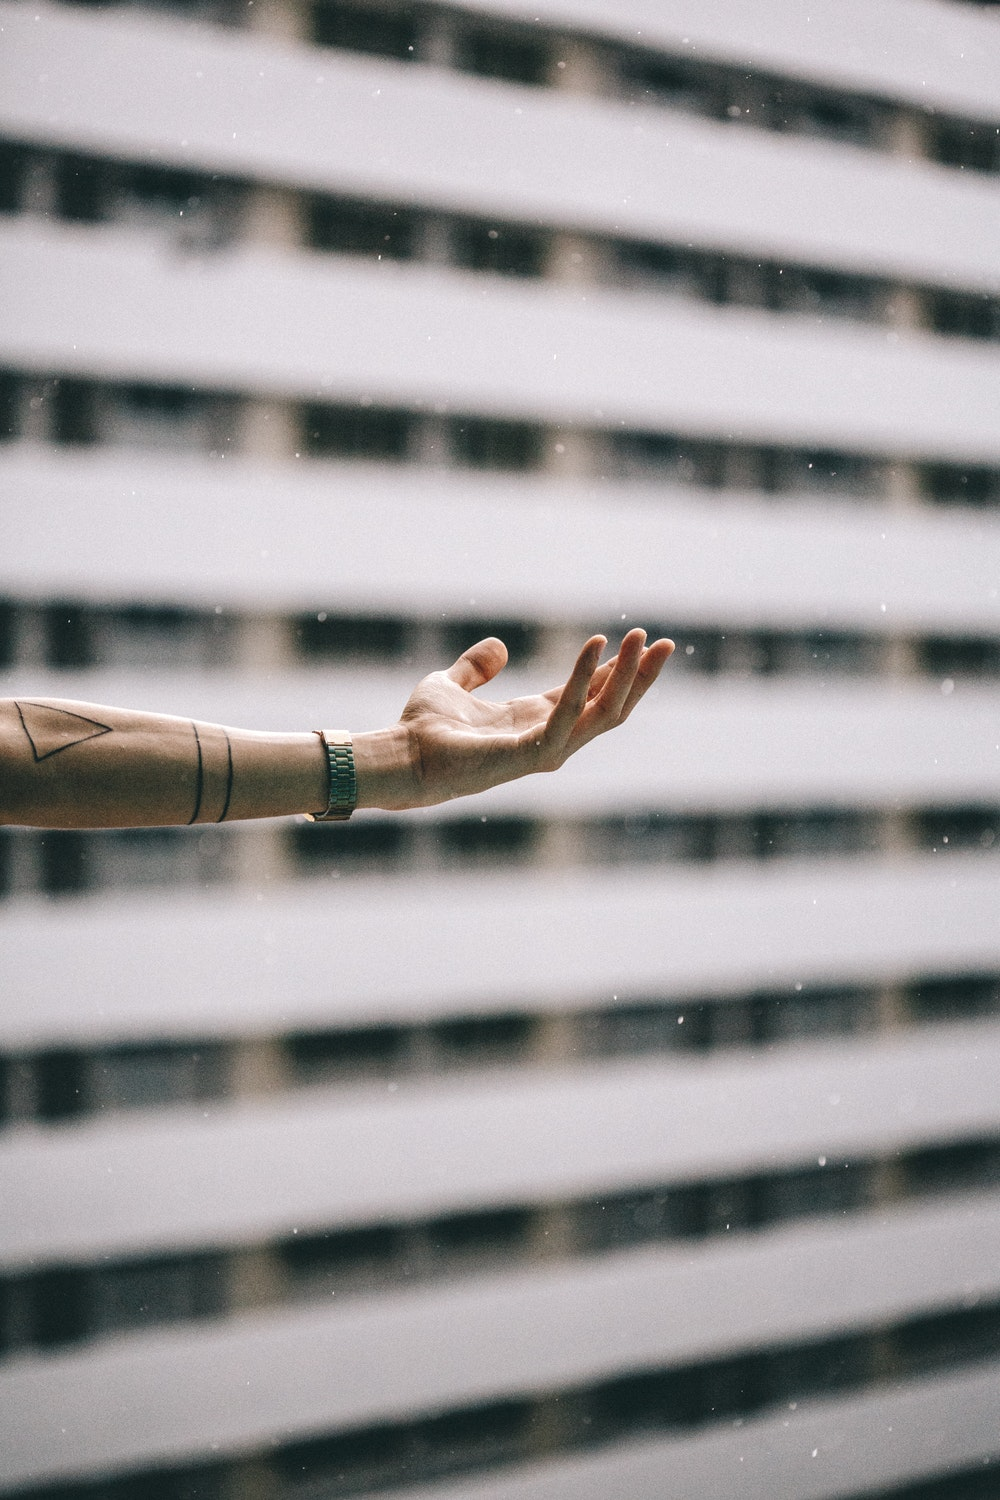palm: (406, 663, 568, 778)
